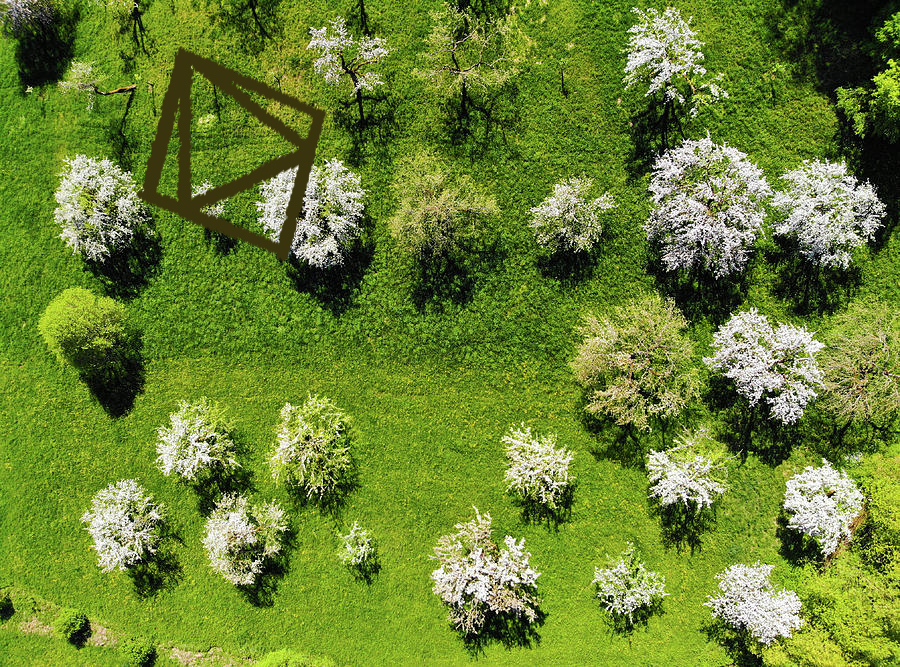marker: (134, 39, 330, 266)
